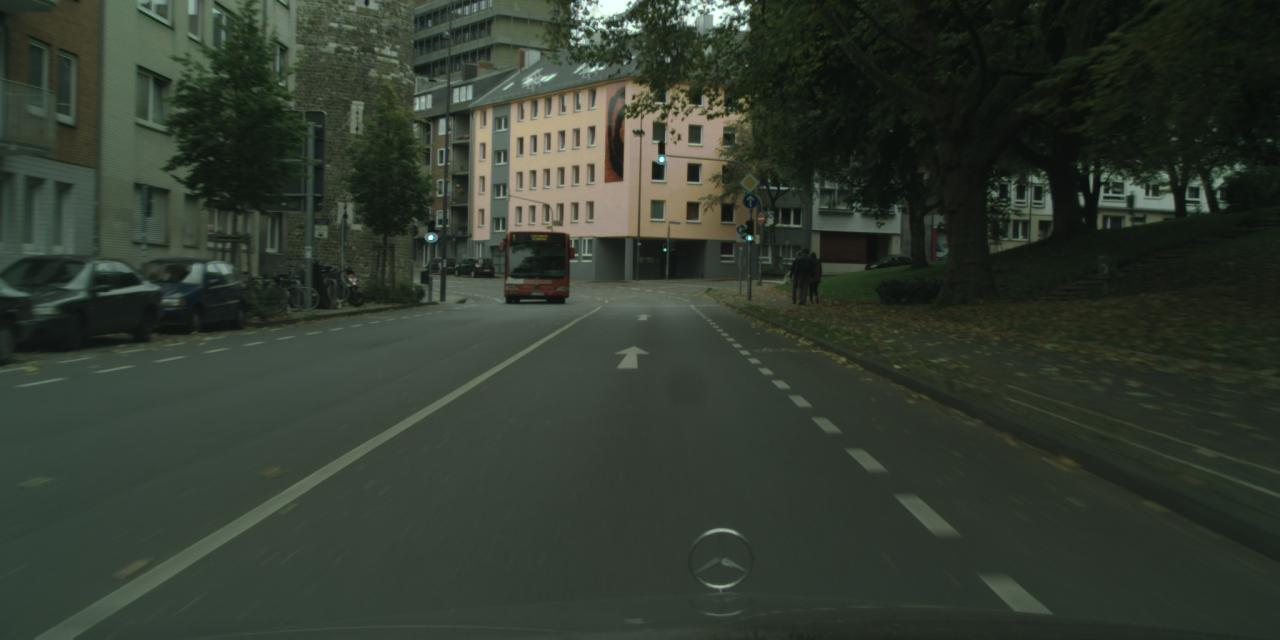ped: (793, 248, 815, 303), (788, 250, 809, 302), (803, 252, 823, 302)
